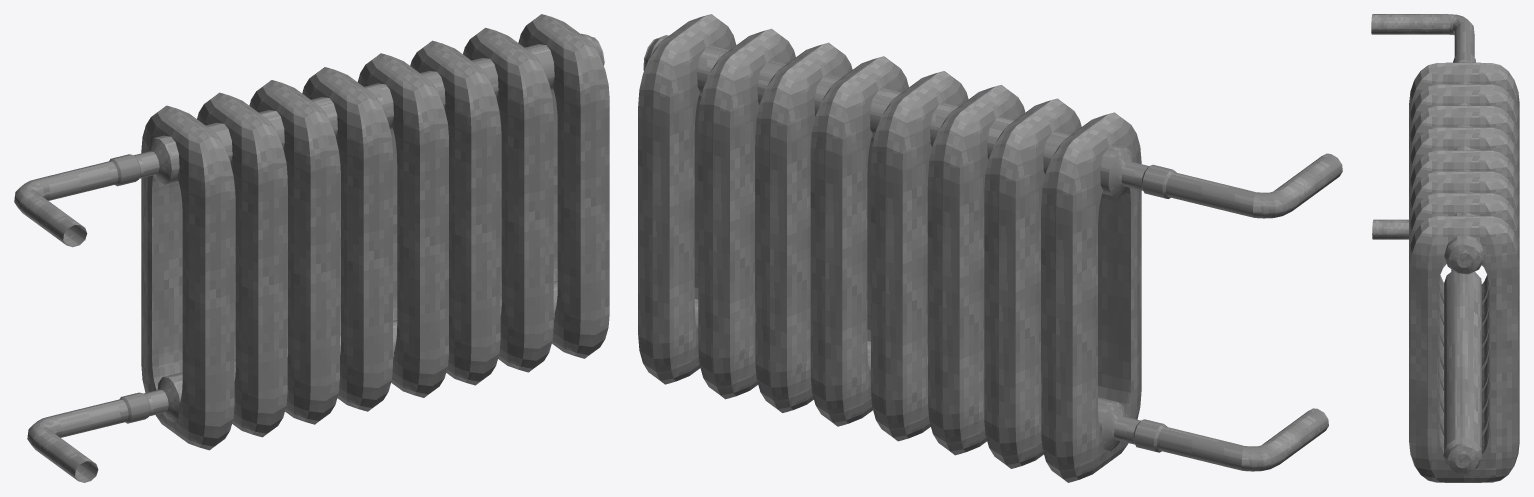
File: heather.fbx
The picture shows the model from 3 angles, left to right: view 1: azimuth 30°, elevation 25°; view 2: azimuth 150°, elevation 25°; view 3: azimuth 270°, elevation 25°; orthographic projection. The views are drawn at different scales.
Parts seen in each view (by area): view 1: Cube.005, Cube.007, Cube.002, Cube.008, Cube.004, Cube, Cube.003, Cube.006, Cylinder.028, Cylinder.005; view 2: Cube.005, Cube.002, Cube.007, Cube.008, Cube.004, Cube, Cube.003, Cube.006, Cylinder.028, Cylinder.005; view 3: Cube.007, Cylinder.005, Cylinder.028, Cube, Cube.008, Cube.006, Cube.003, Cube.004, Cube.002, Cube.005.
Boxes of the visible parts, x1,y1,x2,y2 form: Cube.005: [141, 105, 234, 450]; Cube.007: [518, 14, 609, 358]; Cube.002: [358, 53, 448, 397]; Cube.008: [463, 27, 553, 372]; Cube.004: [197, 92, 287, 437]; Cube: [302, 67, 392, 411]; Cube.003: [249, 80, 339, 424]; Cube.006: [410, 40, 500, 385]; Cylinder.028: [14, 33, 604, 247]; Cylinder.005: [27, 280, 557, 482]; Cube.005: [1041, 112, 1141, 482]; Cube.002: [810, 56, 908, 426]; Cube.007: [638, 14, 736, 384]; Cube.008: [698, 28, 795, 399]; Cube.004: [984, 98, 1081, 468]; Cube: [871, 71, 968, 441]; Cube.003: [928, 85, 1025, 455]; Cube.006: [755, 42, 852, 412]; Cylinder.028: [643, 35, 1342, 218]; Cylinder.005: [694, 299, 1328, 471]; Cube.007: [1409, 216, 1519, 482]; Cylinder.005: [1372, 219, 1482, 473]; Cylinder.028: [1371, 14, 1484, 274]; Cube: [1409, 127, 1519, 370]; Cube.008: [1409, 193, 1519, 436]; Cube.006: [1409, 171, 1519, 413]; Cube.003: [1409, 105, 1519, 347]; Cube.004: [1409, 84, 1519, 326]; Cube.002: [1409, 150, 1519, 391]; Cube.005: [1409, 62, 1519, 304].
Size of what is drawn, in the model's own units: 516 by 266 by 134.
